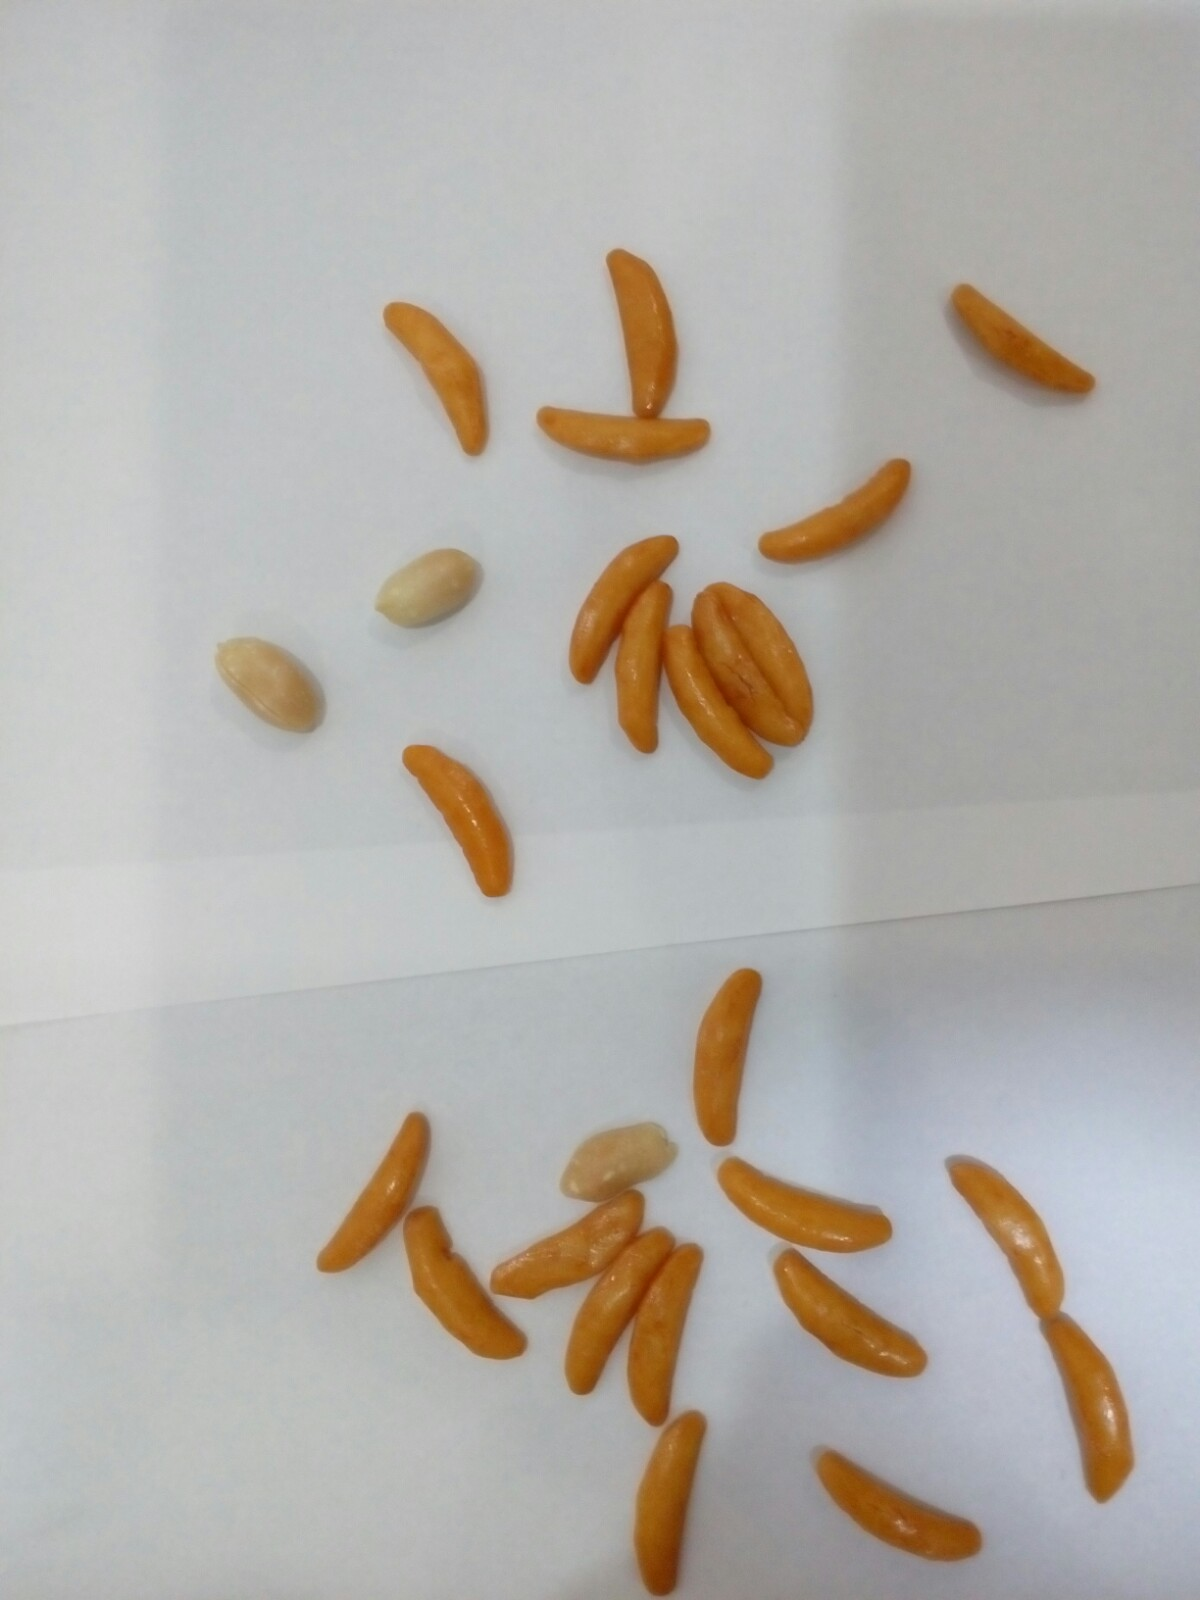peanut: (211, 625, 333, 742), (373, 538, 488, 632), (556, 1114, 676, 1202)
